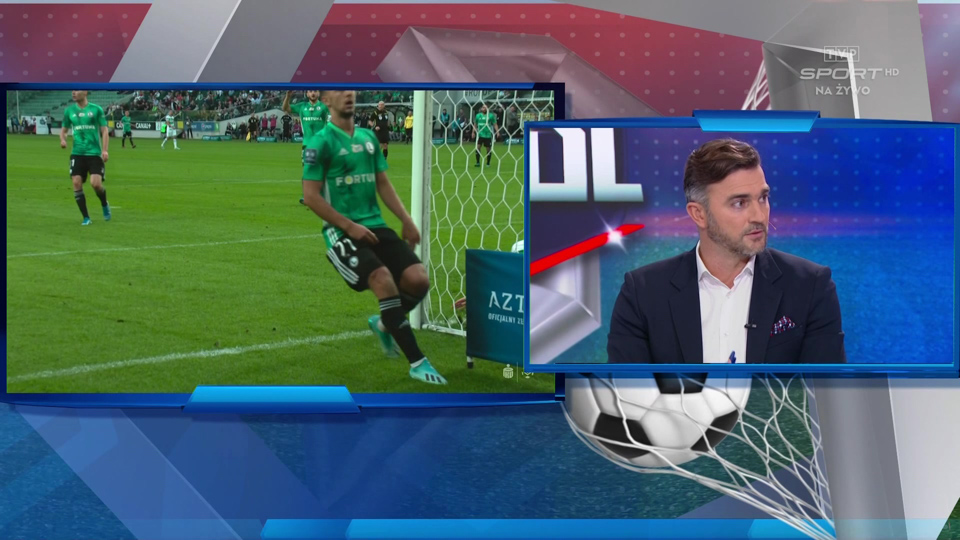Adidas: (337, 146, 350, 155)
